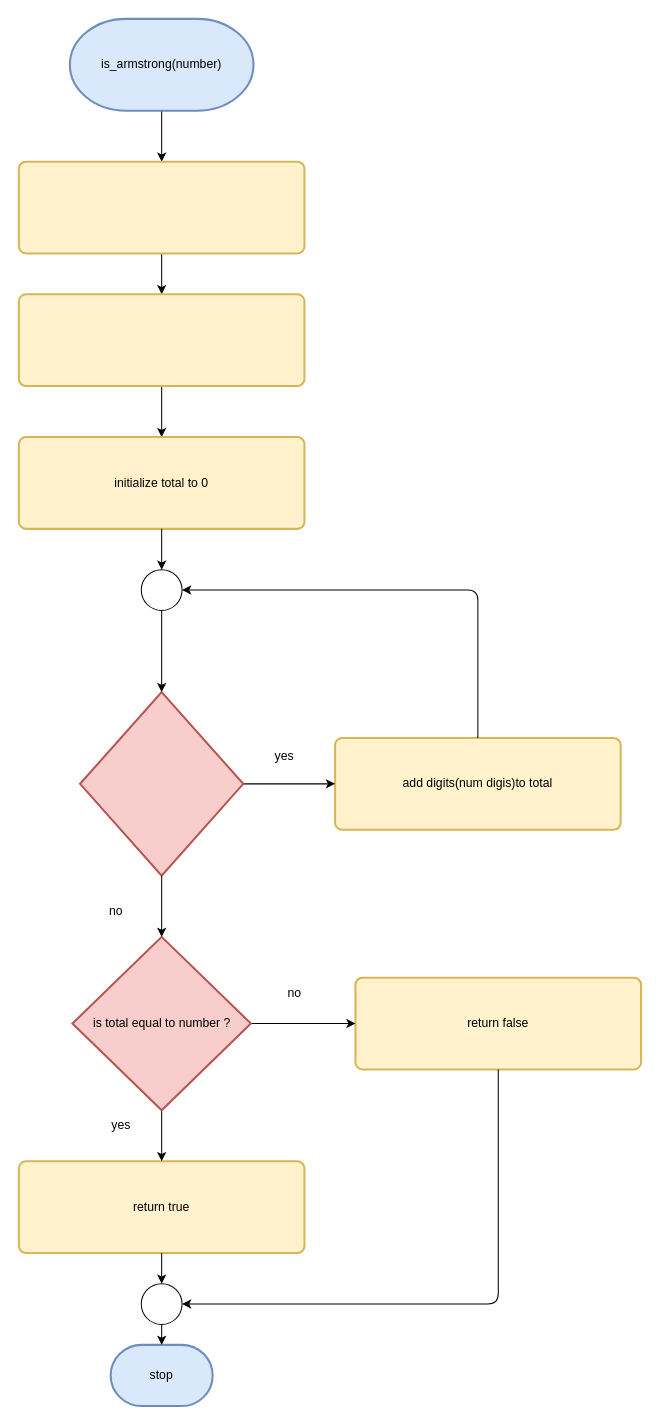
The diagram is 659 pixels wide and 1424 high, and some of its shapes have lost their labels. The shapes that lost their labels are listed below. From the top down, each one's centre as x and y in pixels, then its label:
At point 161,207: "convert number to string".
At point 161,340: "get number of digits".
At point 161,783: "for ech digits in string".
